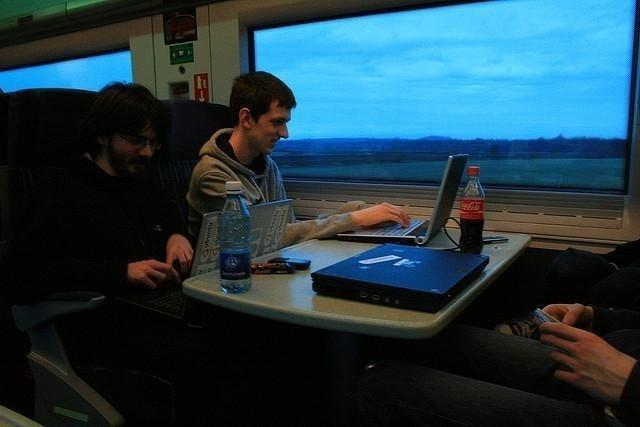bottle-plastic: (218, 180, 253, 292), (457, 166, 488, 252)
